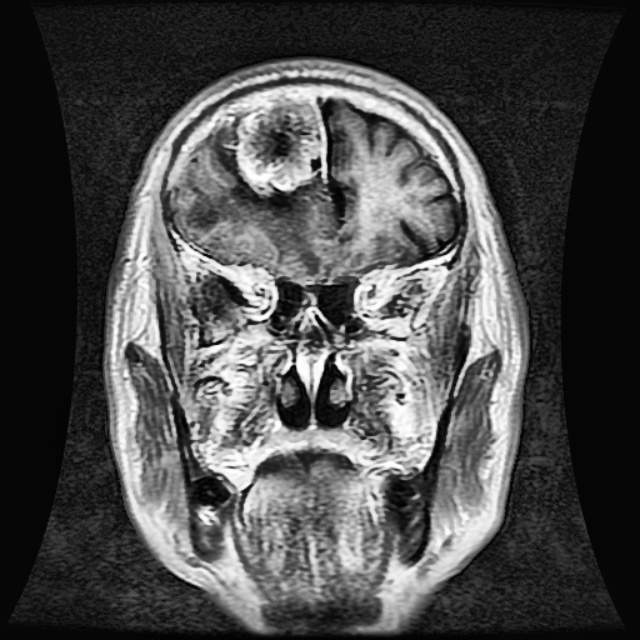Glioma: (235, 100, 328, 195)
